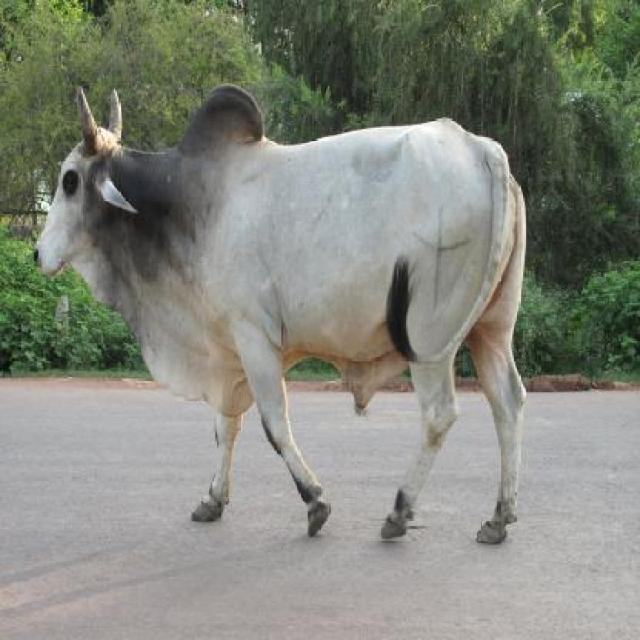Cow: (28, 78, 530, 556)
